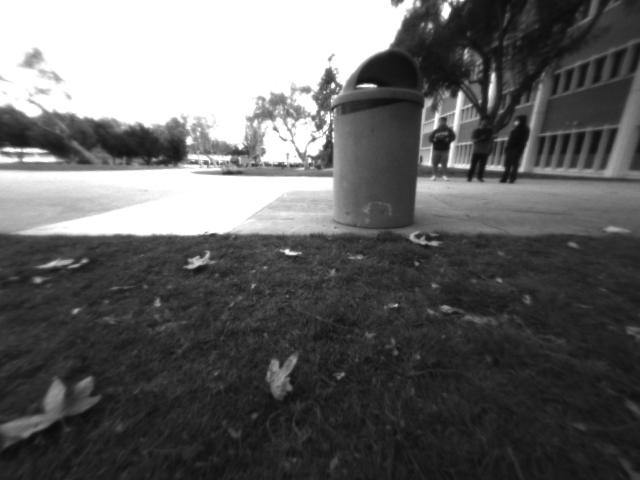trashcan: (329, 47, 418, 232)
